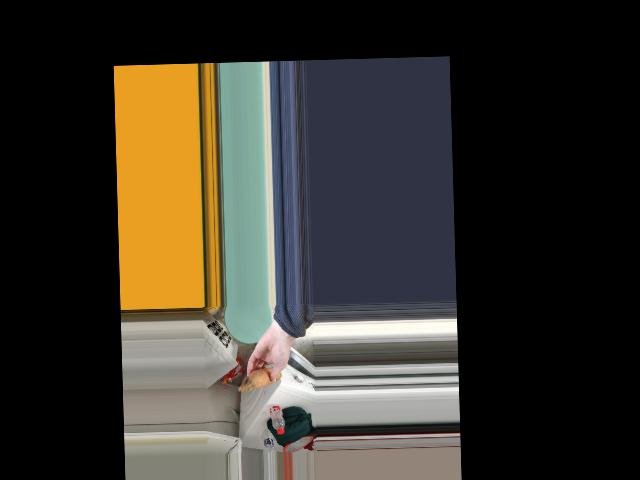sweet_potato: (249, 368, 277, 388)
